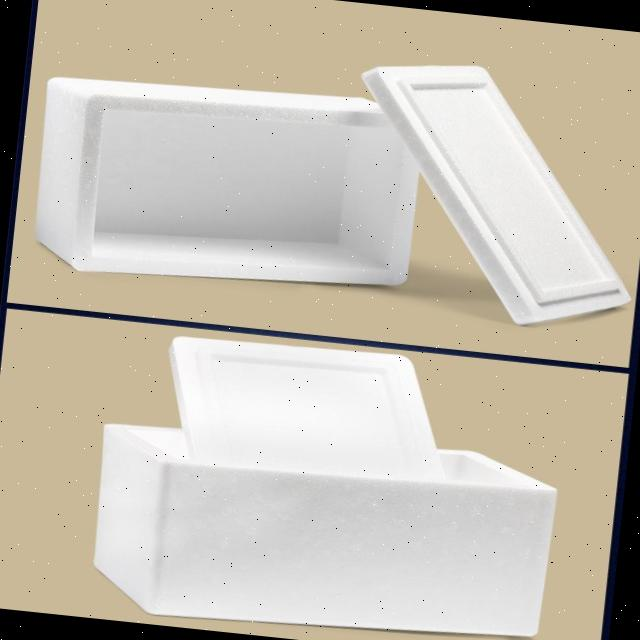styrofoam: (83, 323, 570, 640), (26, 62, 428, 305), (335, 51, 640, 337)
